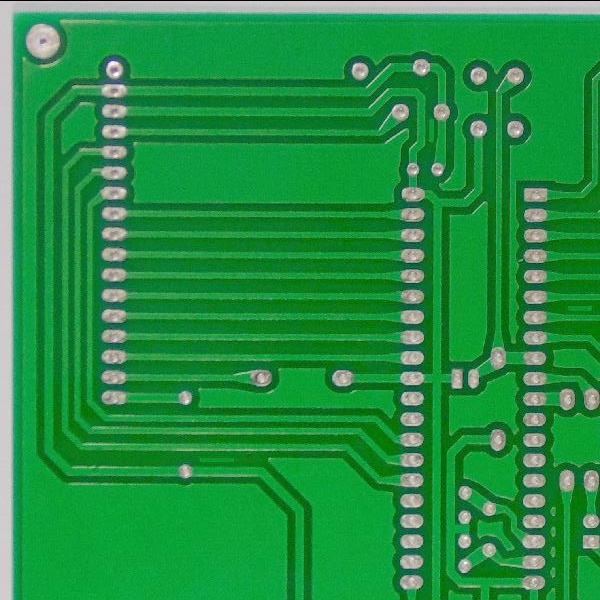spurious_copper: (196, 447, 236, 471), (421, 112, 443, 149), (560, 297, 597, 318)
